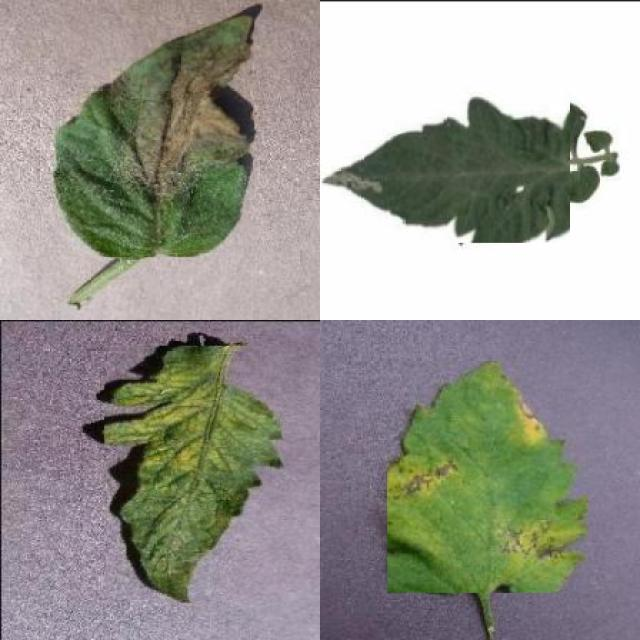Late Blight: (54, 15, 255, 258)
Leaf Miner: (321, 91, 570, 243)
Mosaic Virus: (105, 346, 282, 604)
Septoria: (387, 360, 589, 593)
